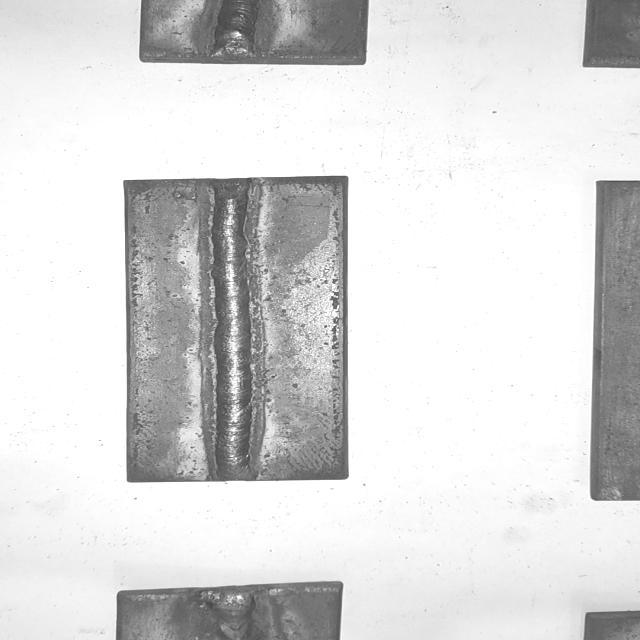Defect: (199, 588, 263, 640)
Welding Line: (211, 181, 256, 481), (214, 0, 262, 58)
Workpiece: (114, 171, 360, 487), (133, 0, 380, 67), (112, 576, 354, 640)
